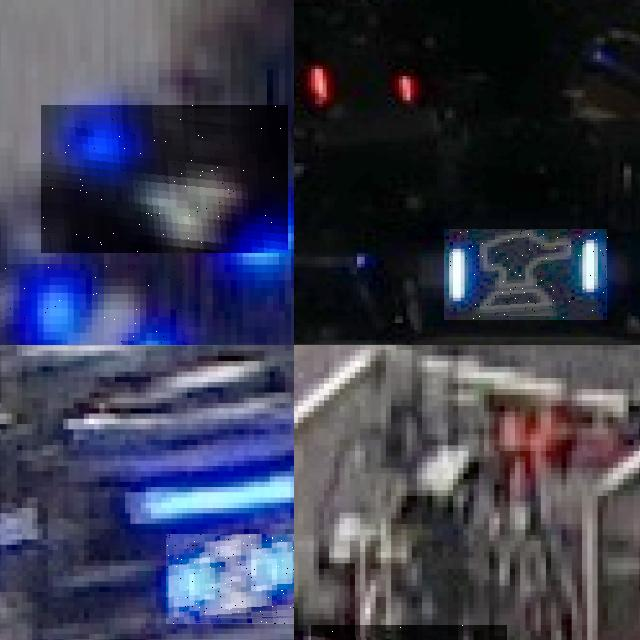B2: (166, 534, 294, 623)
B4: (41, 105, 288, 253), (4, 264, 185, 345)
Bs: (444, 229, 608, 320)
